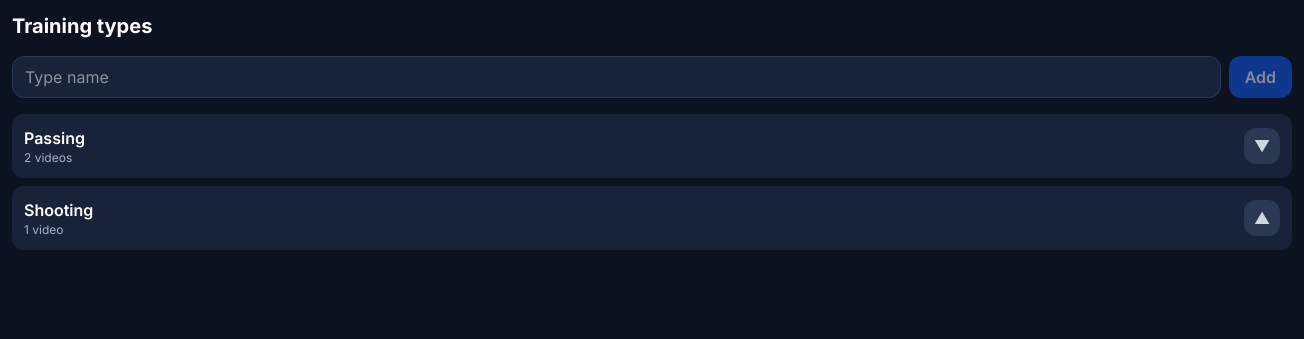
TrainingTypesPage › adds a type at the end of the list
In the field labelled "Type name": (616, 77) [12,56,1221,98], type " Warm-up "
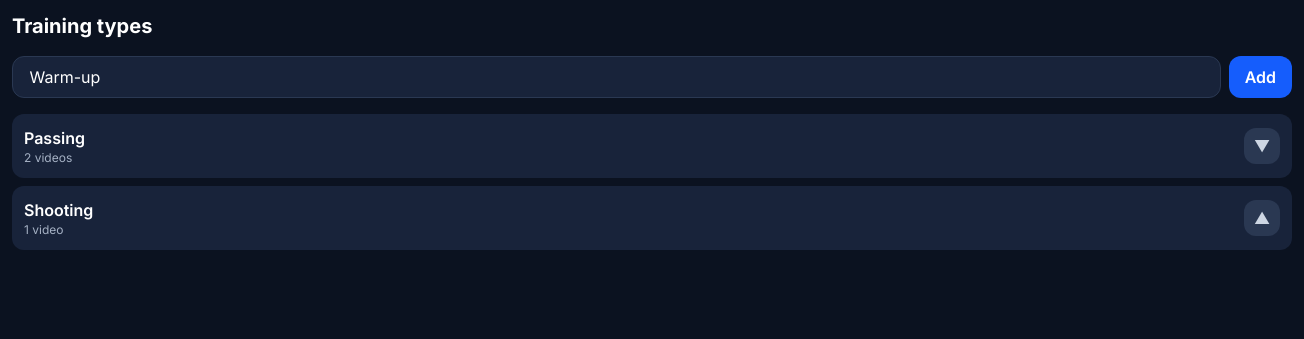
Click the button "Add": click(1260, 77) [1229,56,1292,98]
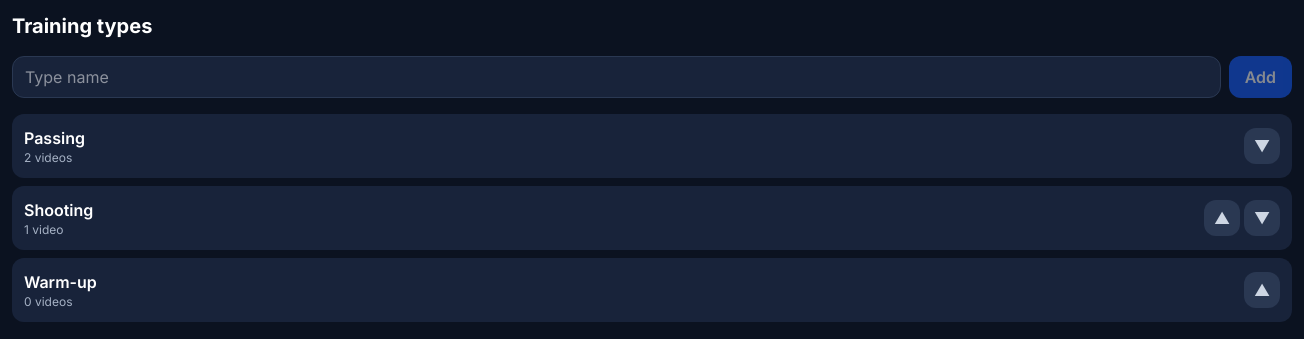
Now the link "Warm-up 0 videos" is shown, box [24,272,97,309]
Now the field labelled "Type name" is empty, box [12,56,1221,98]
